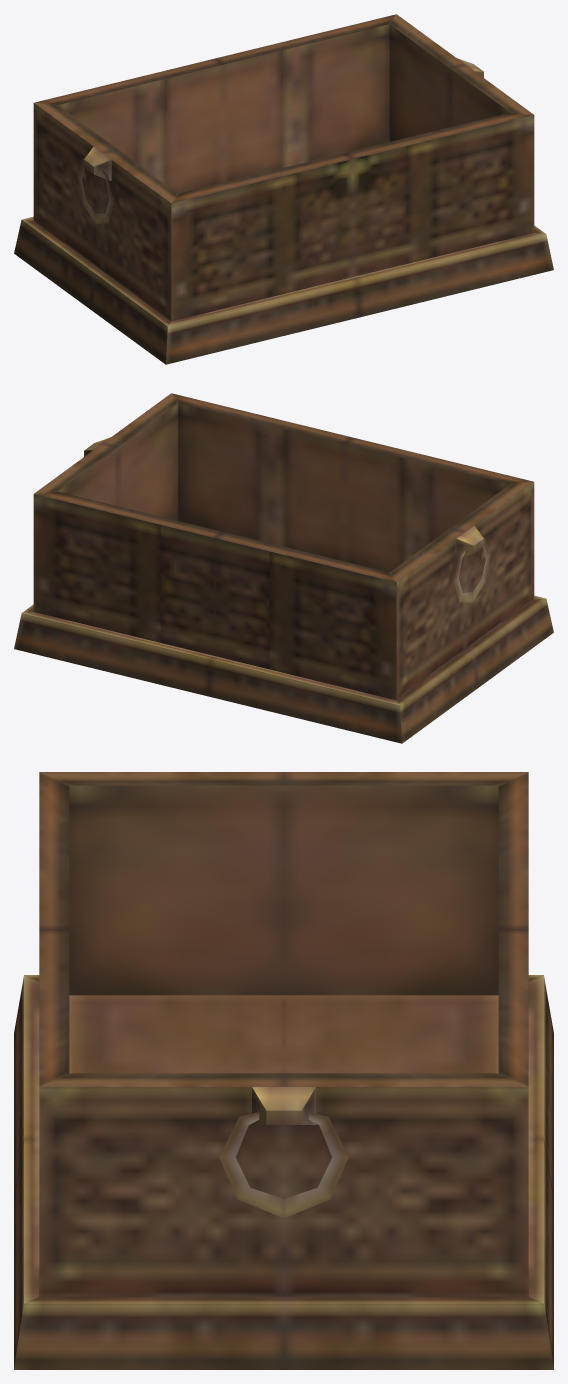
Rendered from mlzd_xiangz_02.FBX.
3 renders of one model, top to bottom at view 1: azimuth 30°, elevation 25°; view 2: azimuth 150°, elevation 25°; view 3: azimuth 270°, elevation 25°, orthographic. The views are drawn at different scales.
Visible parts, largest first — view 1: mlzd_xiangz_02; view 2: mlzd_xiangz_02; view 3: mlzd_xiangz_02.
Part boxes in pixels (x1,y1,x2,y2): mlzd_xiangz_02: [14, 14, 553, 364]; mlzd_xiangz_02: [14, 393, 553, 743]; mlzd_xiangz_02: [14, 772, 553, 1369].
Bounding box in the file's own units: 172 × 64.37 × 116.
